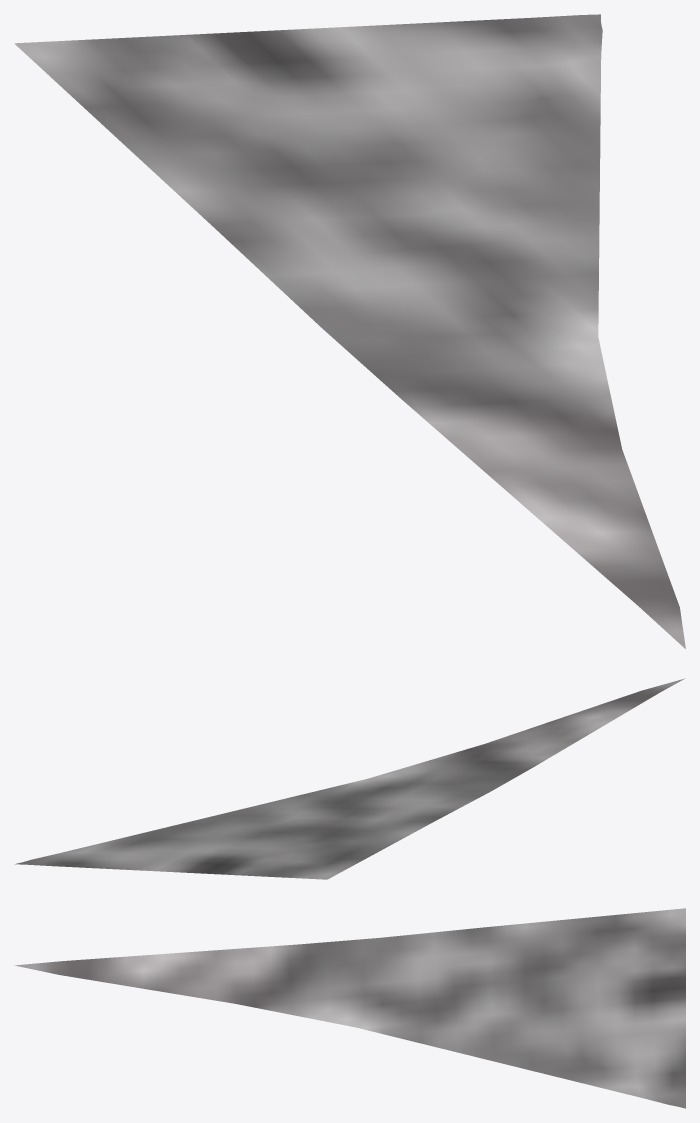
The picture shows the model from 3 angles, top to bottom: view 1: azimuth 30°, elevation 25°; view 2: azimuth 150°, elevation 25°; view 3: azimuth 270°, elevation 25°; orthographic projection. The views are drawn at different scales.
Bounding box in the file's own units: 0.0607 × 0.0113 × 0.1203.
Materials: 1 (1 with a texture image).
